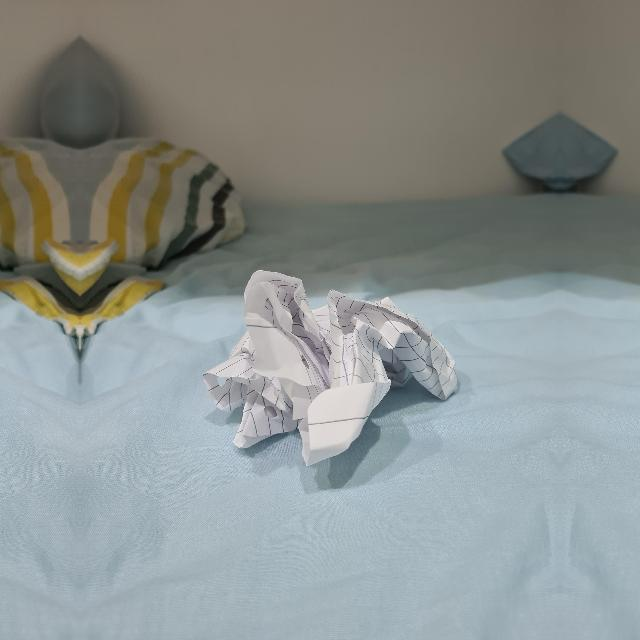paper: (217, 260, 467, 458)
